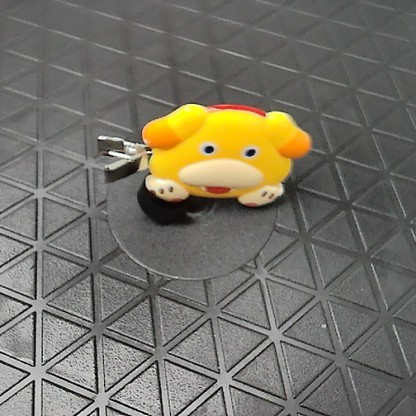dogclip: (97, 94, 312, 205)
